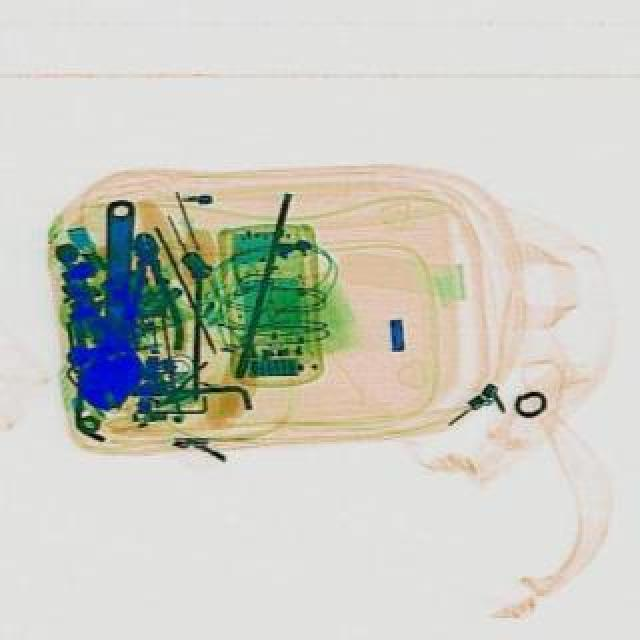scissors: (78, 198, 156, 412)
wrench: (120, 228, 188, 356)
